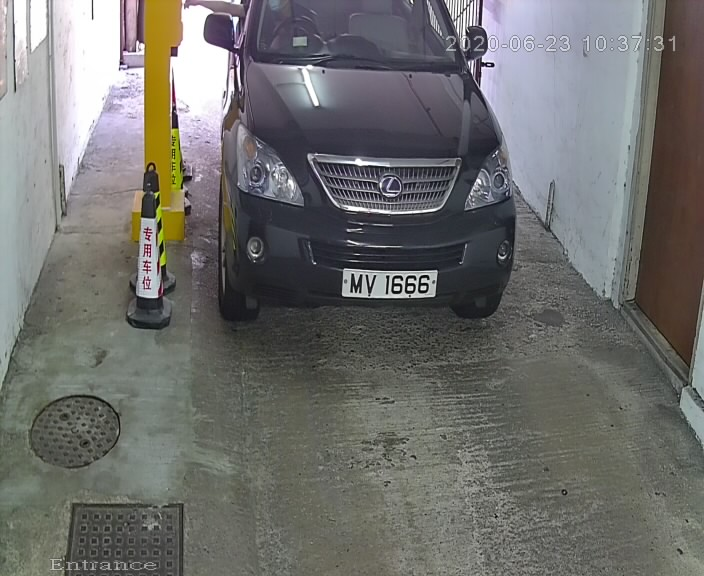privatecar: (182, 2, 527, 352)
